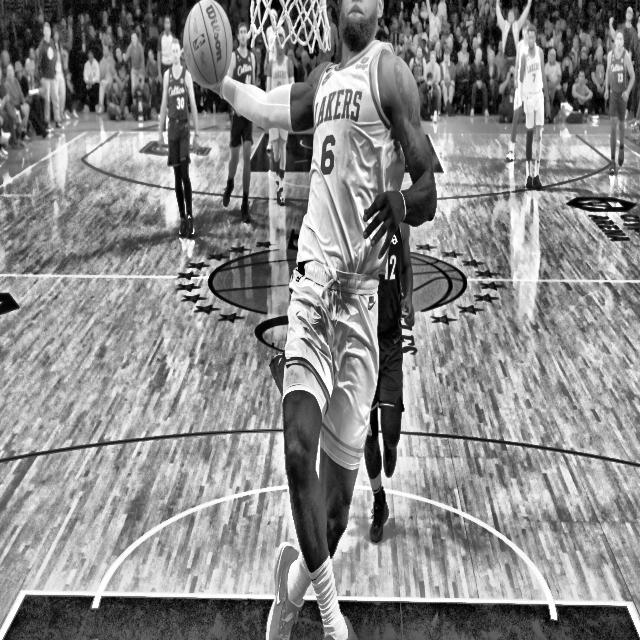Basketball: (183, 0, 233, 85)
